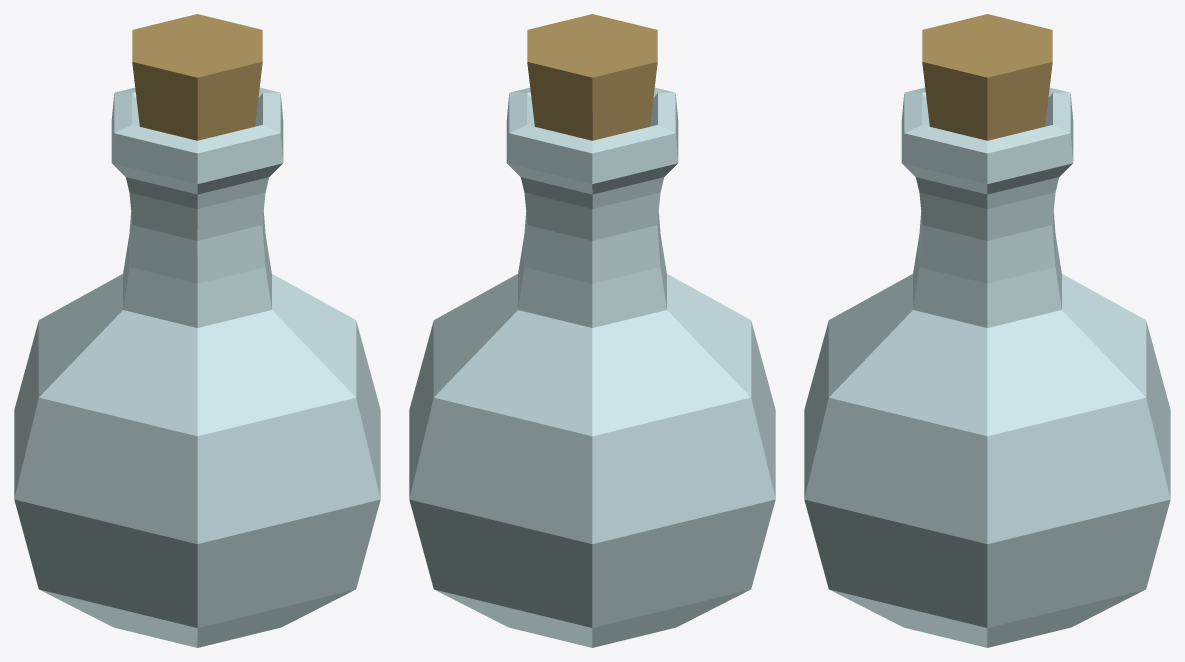
Rendered from Potion2.fbx.
3 renders of one model, left to right at view 1: azimuth 30°, elevation 25°; view 2: azimuth 150°, elevation 25°; view 3: azimuth 270°, elevation 25°, orthographic.
Parts seen in each view (by area): view 1: pSphere1; view 2: pSphere1; view 3: pSphere1.
Part boxes in pixels (left/top/right/bottom): pSphere1: left=14, top=14, right=380, bottom=647; pSphere1: left=409, top=14, right=775, bottom=647; pSphere1: left=804, top=14, right=1170, bottom=647.
Size of the model in its own units: 0.0538 by 0.0803 by 0.0466.
